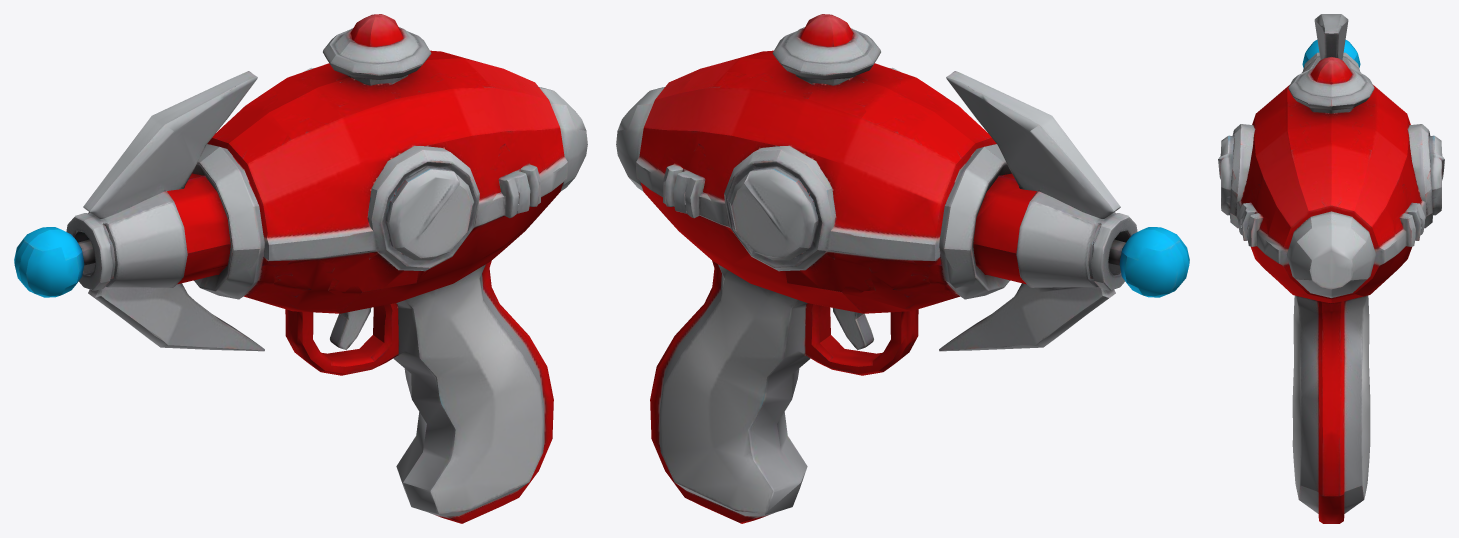
File: retro_ray_gun_low.glb
3 renders of one model, left to right at view 1: azimuth 30°, elevation 25°; view 2: azimuth 150°, elevation 25°; view 3: azimuth 270°, elevation 25°, orthographic. The views are drawn at different scales.
Parts seen in each view (by area): view 1: world; view 2: world; view 3: world.
Part boxes in pixels (box(x1,y1,x2,y2)): world: box(14, 14, 587, 523); world: box(616, 14, 1189, 523); world: box(1218, 14, 1444, 523).
Bounding box in the file's own units: 1 × 0.9046 × 0.4413.
1 material, 1 textured.
